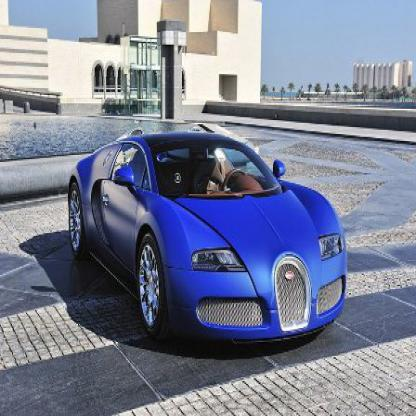Vehicle: (67, 123, 351, 349)
